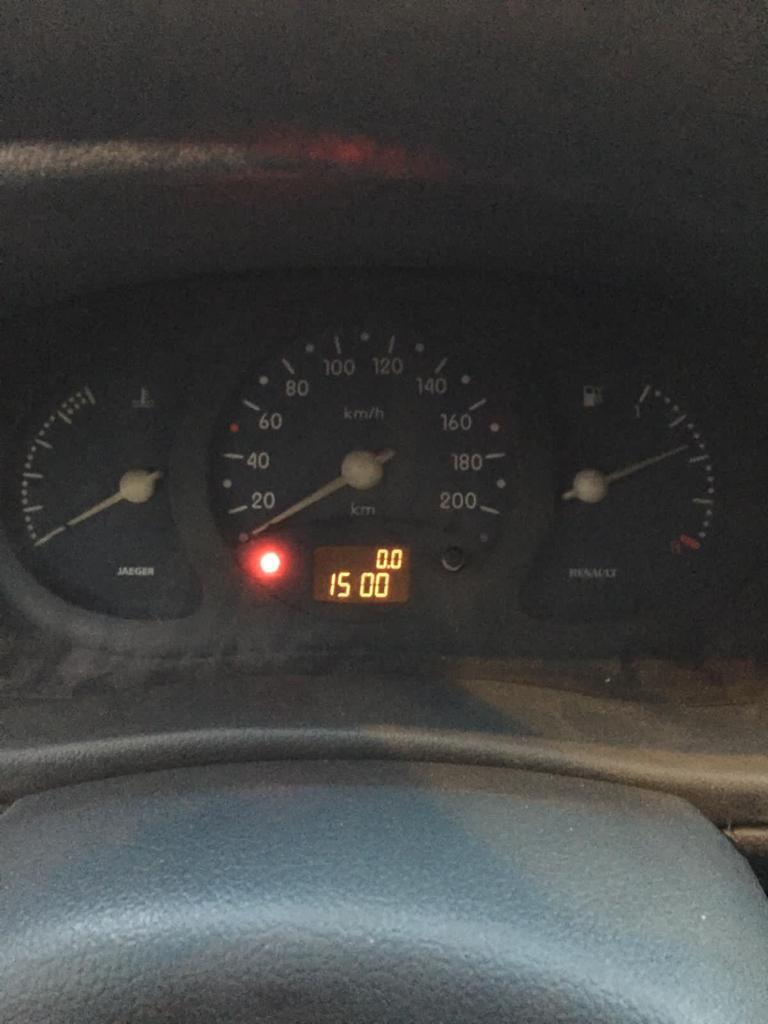,: (387, 564, 391, 570)
0: (357, 572, 374, 597), (374, 572, 389, 597), (375, 549, 388, 568), (391, 549, 402, 570)
1: (329, 572, 337, 597)
5: (338, 571, 353, 599)
odometer: (305, 540, 415, 608)
